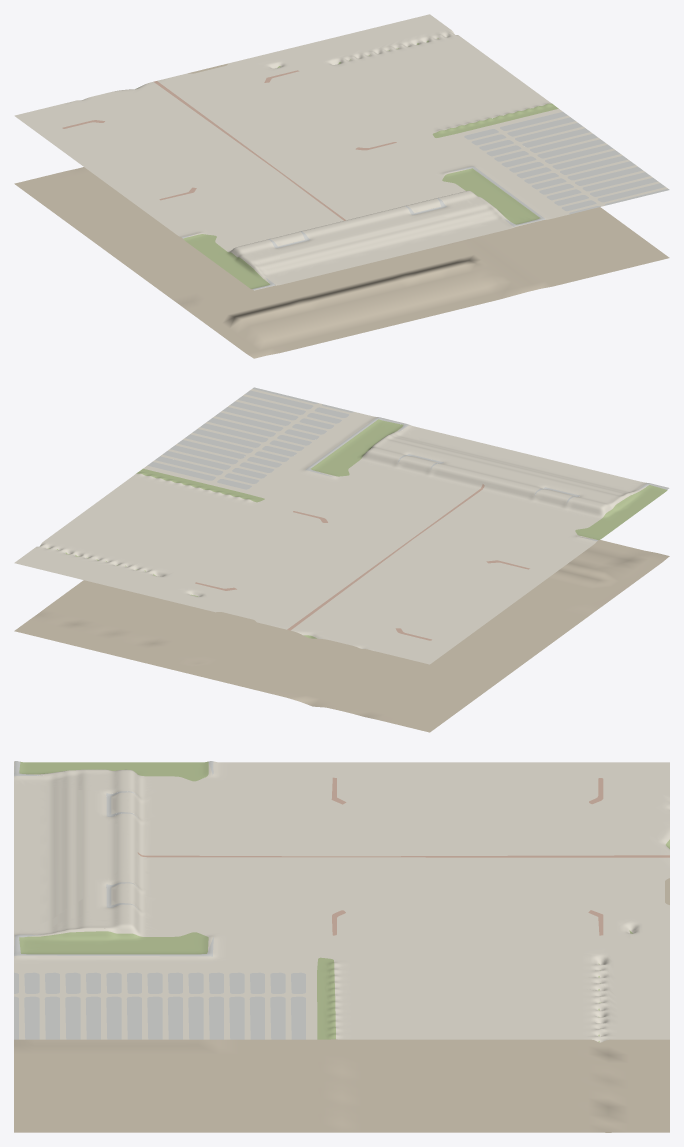
3 views of the same model, one above another, from view 1: azimuth 30°, elevation 25°; view 2: azimuth 150°, elevation 25°; view 3: azimuth 270°, elevation 25° (orthographic). The views are drawn at different scales.
Parts seen in each view (by area): view 1: s_-1_2__paving, s_-1_2__soil, s_-1_2__stone_paving, s_-1_2__grass, s_-1_2__brick_paving; view 2: s_-1_2__paving, s_-1_2__soil, s_-1_2__stone_paving, s_-1_2__grass, s_-1_2__brick_paving; view 3: s_-1_2__paving, s_-1_2__soil, s_-1_2__stone_paving, s_-1_2__grass, s_-1_2__brick_paving.
Part boxes in pixels (box(x1,y1,x2,y2)): s_-1_2__paving: box(14, 14, 667, 290); s_-1_2__soil: box(14, 63, 669, 358); s_-1_2__stone_paving: box(181, 112, 669, 290); s_-1_2__grass: box(136, 38, 558, 288); s_-1_2__brick_paving: box(62, 70, 396, 220); s_-1_2__paving: box(14, 388, 668, 664); s_-1_2__soil: box(14, 536, 669, 732); s_-1_2__stone_paving: box(147, 387, 669, 541); s_-1_2__grass: box(40, 419, 667, 638); s_-1_2__brick_paving: box(195, 484, 529, 640); s_-1_2__paving: box(14, 761, 669, 1042); s_-1_2__soil: box(14, 878, 669, 1132); s_-1_2__stone_paving: box(14, 761, 305, 1039); s_-1_2__grass: box(19, 761, 669, 1042); s_-1_2__brick_paving: box(137, 777, 669, 935).
Size of the model in its own units: 128 by 22.77 by 128.
